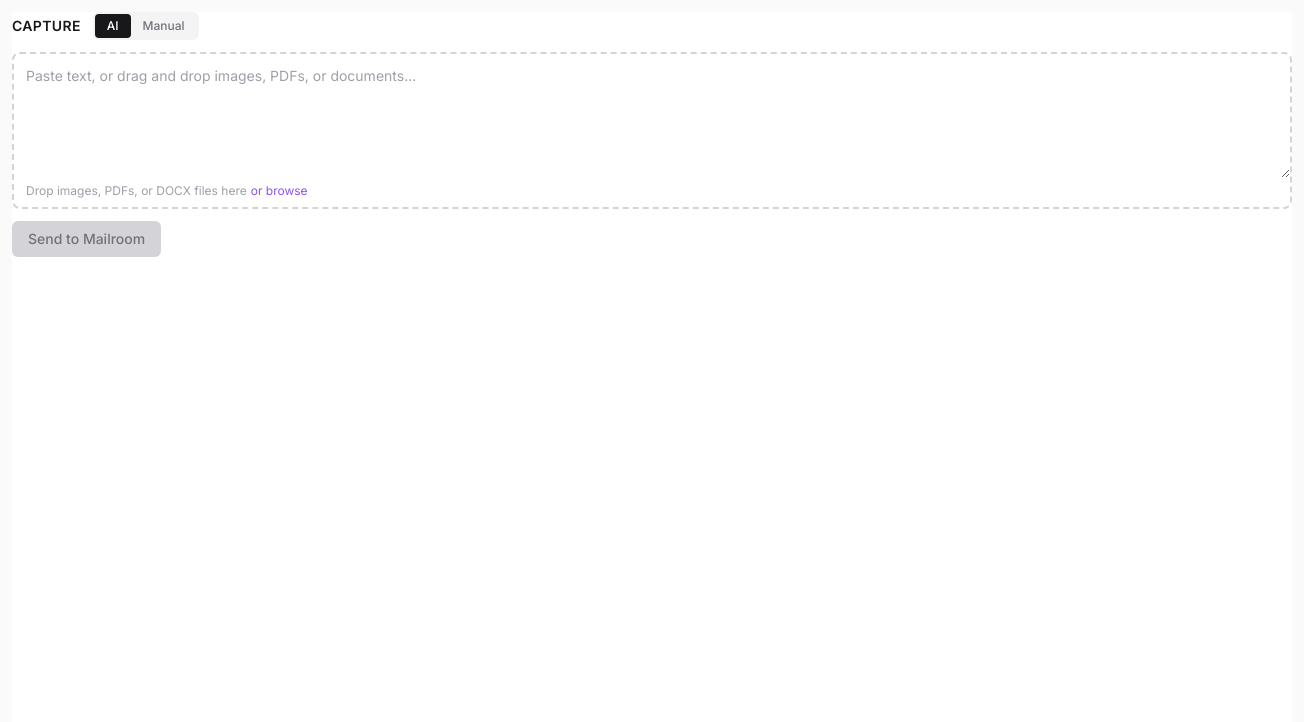
Test case: CaptureInput › switches to manual mode
This screenshot has width=1304, height=722.
Click the button "Manual". click: (164, 26)
box: [131,14,197,38]
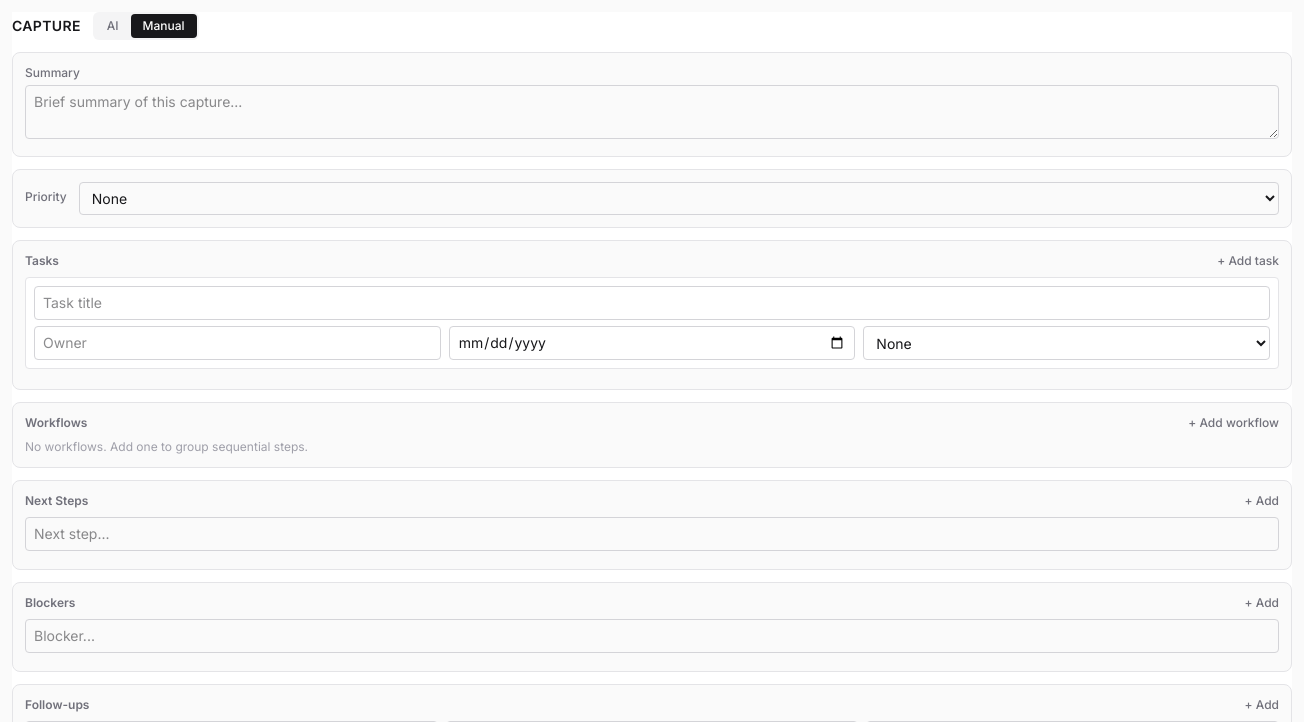
Expected: the text box with placeholder "Brief summary of this capture..." is shown, [25,85,1279,139]
